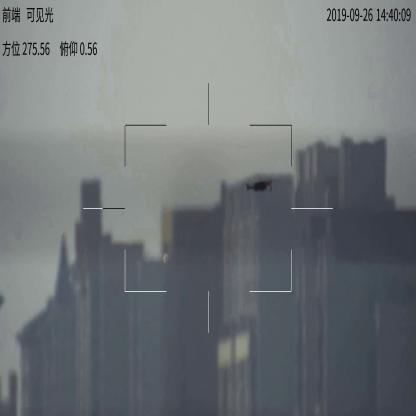uav: (245, 177, 275, 195)
